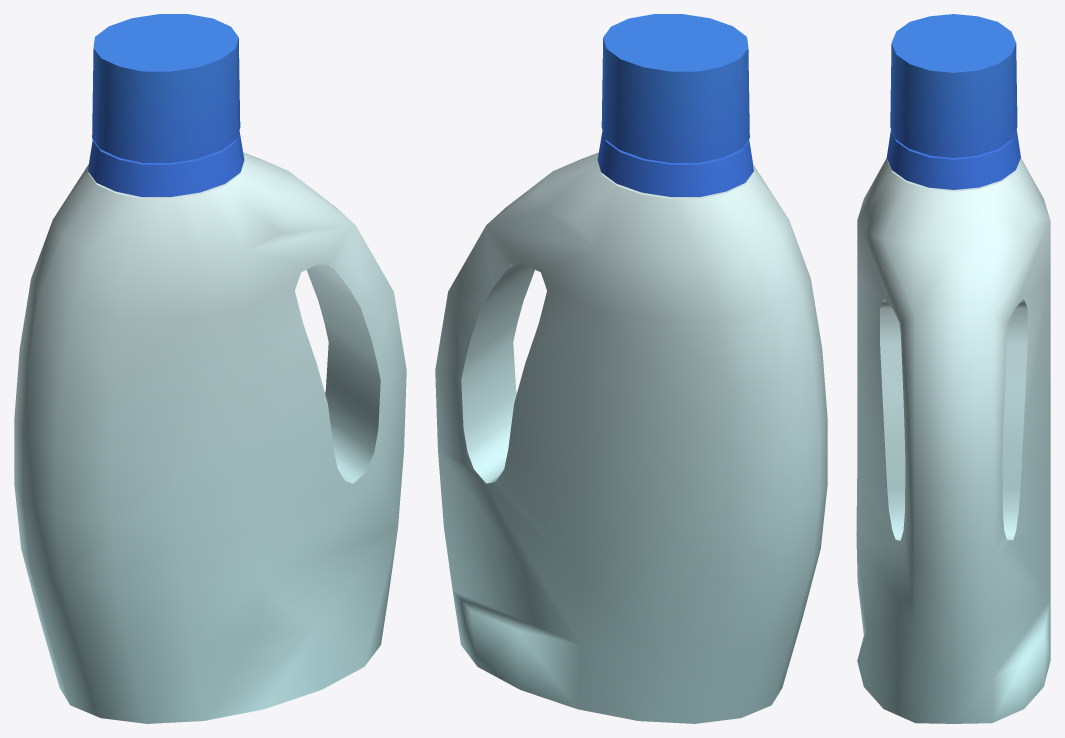
Rendered from detergent_white.fbx.
3 renders of one model, left to right at view 1: azimuth 30°, elevation 25°; view 2: azimuth 150°, elevation 25°; view 3: azimuth 270°, elevation 25°, orthographic. The views are drawn at different scales.
Parts seen in each view (by area): view 1: detergent_white; view 2: detergent_white; view 3: detergent_white.
Part boxes in pixels (left/top/right/bottom): detergent_white: left=14, top=14, right=406, bottom=723; detergent_white: left=435, top=14, right=827, bottom=723; detergent_white: left=856, top=14, right=1050, bottom=723.
Bounding box in the file's own units: 218 × 363 × 107.
